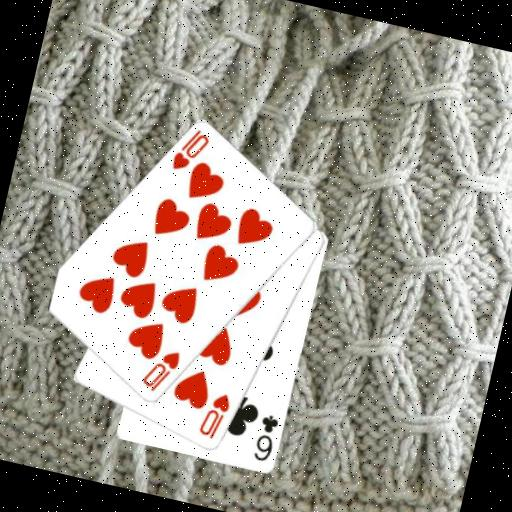10H: (137, 342, 184, 398), (167, 123, 213, 178), (195, 388, 235, 444)
6C: (250, 411, 282, 466)
